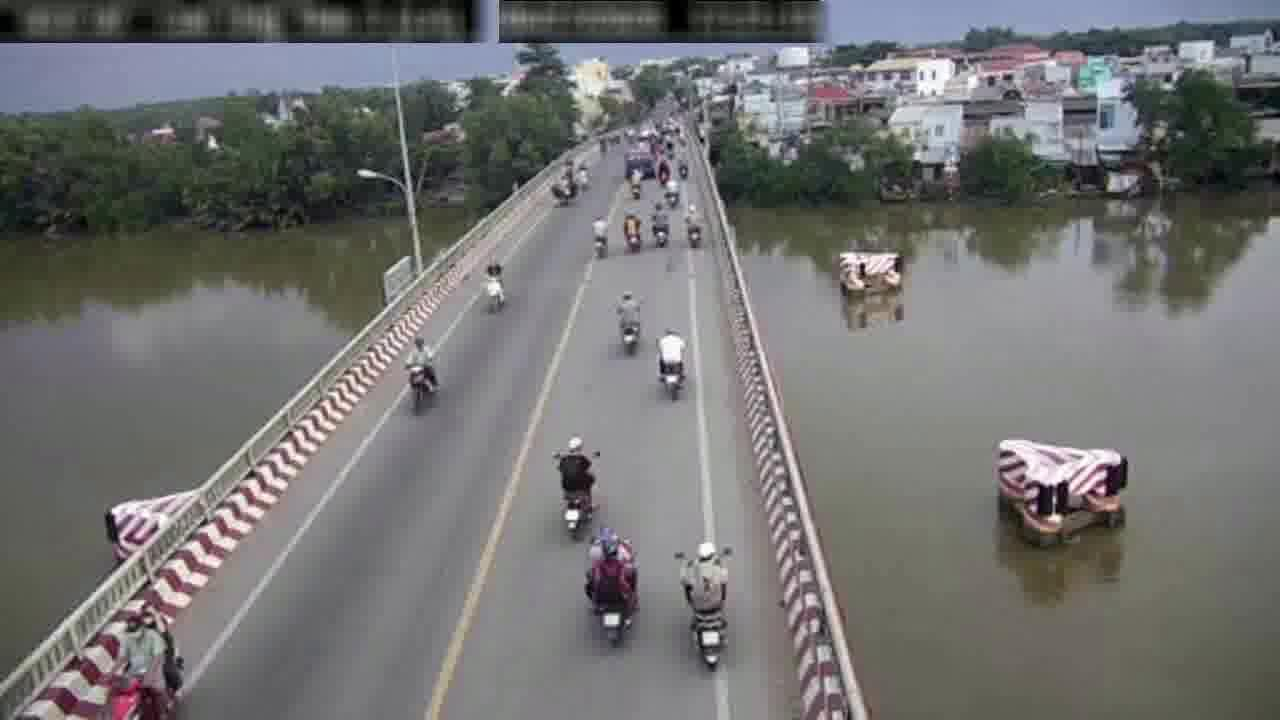motorbike: (105, 595, 180, 720), (585, 522, 639, 653), (682, 533, 733, 669), (556, 433, 596, 541), (408, 326, 441, 419), (657, 323, 685, 406), (482, 249, 511, 318), (615, 285, 643, 354), (648, 197, 670, 248), (682, 198, 702, 248), (622, 209, 642, 253), (590, 210, 606, 256)
